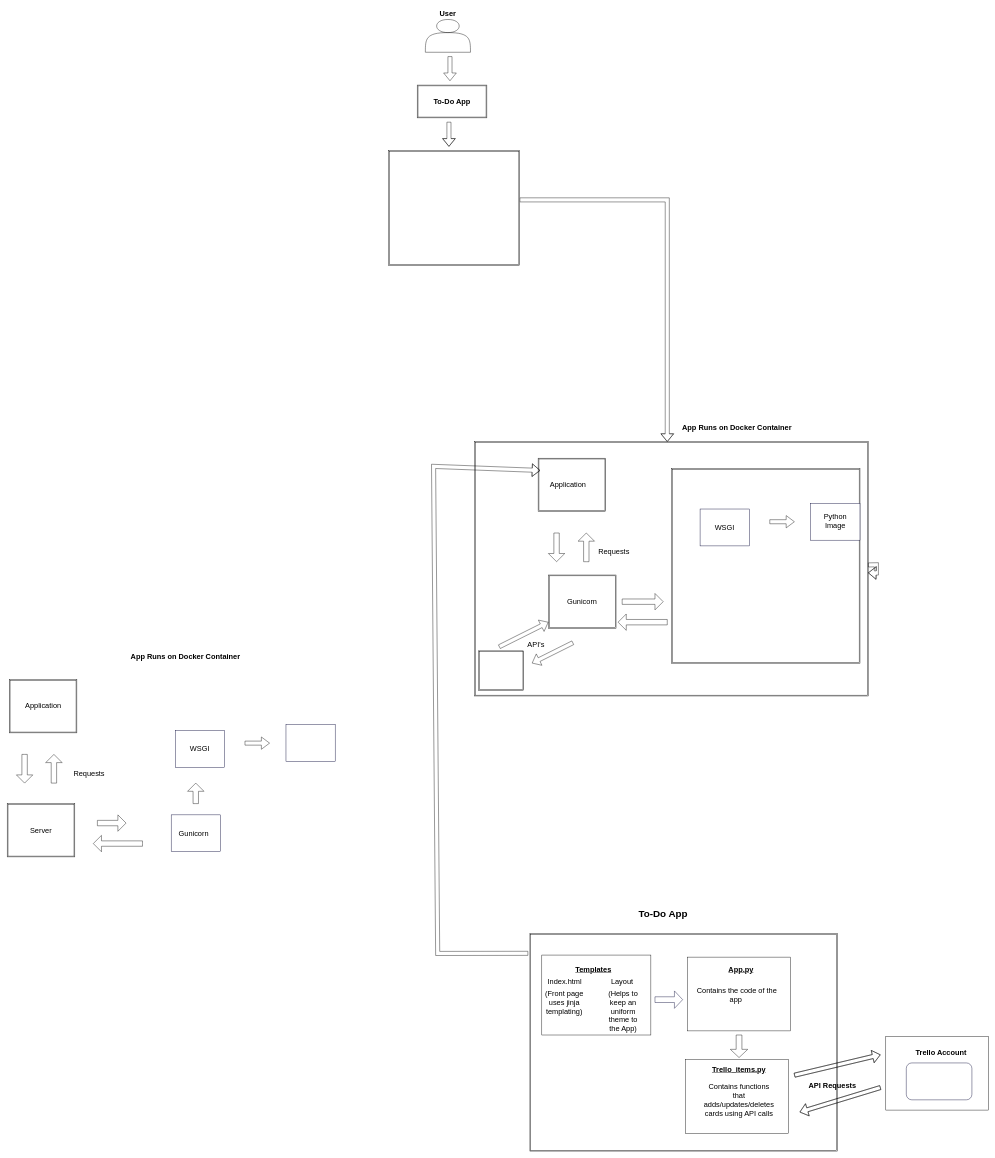
Some shapes in this 995 by 1158 pixel diagram are drawn without their labels. Here are the shapes that lost their labels. From the top down, the centre of each, then its label:
At [454,207]: "Docker Container".
At [501,670]: "Trello".
At [939,1081]: "Trello Board with cards".
